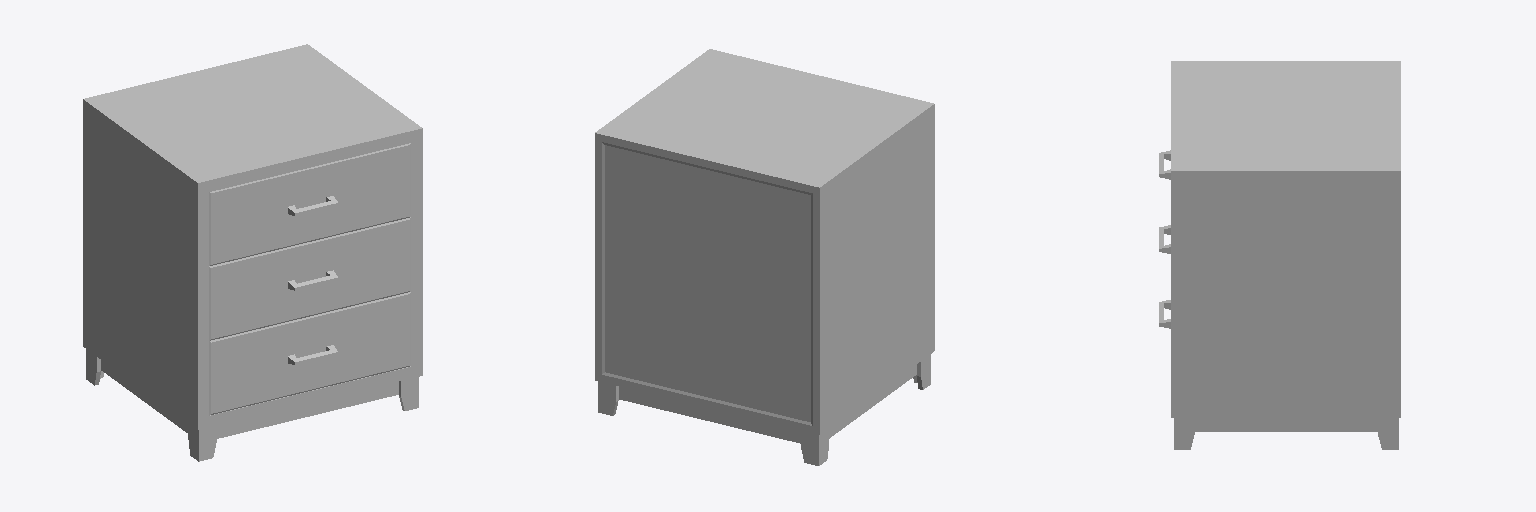
File: bedtable.obj
The picture shows the model from 3 angles: view 1: azimuth 30°, elevation 25°; view 2: azimuth 150°, elevation 25°; view 3: azimuth 270°, elevation 25°; orthographic projection.
Parts seen in each view (by area): view 1: bedtable_Cube.008; view 2: bedtable_Cube.008; view 3: bedtable_Cube.008.
Part boxes in pixels (bbox=[...]): bedtable_Cube.008: bbox=[83, 44, 422, 461]; bedtable_Cube.008: bbox=[595, 49, 934, 465]; bedtable_Cube.008: bbox=[1159, 61, 1400, 449].
Size of the model in its own units: 2 by 2.38 by 1.87.